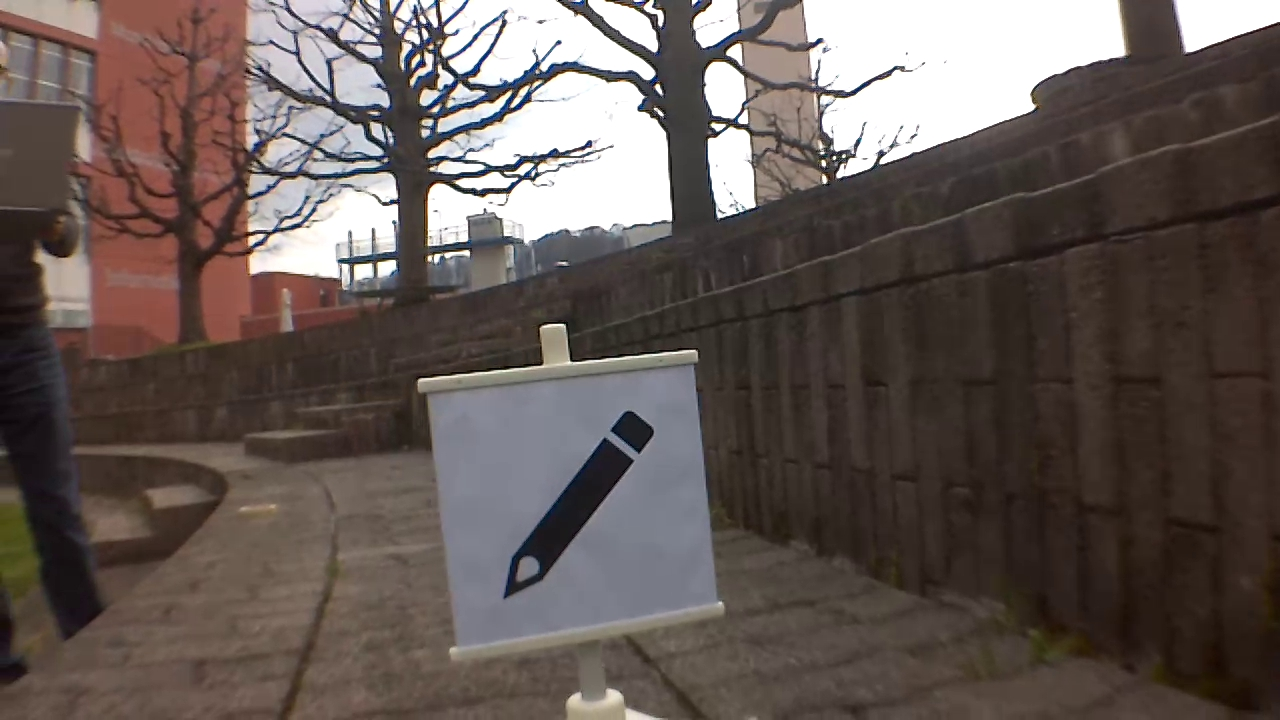pencil: (501, 401, 666, 605)
